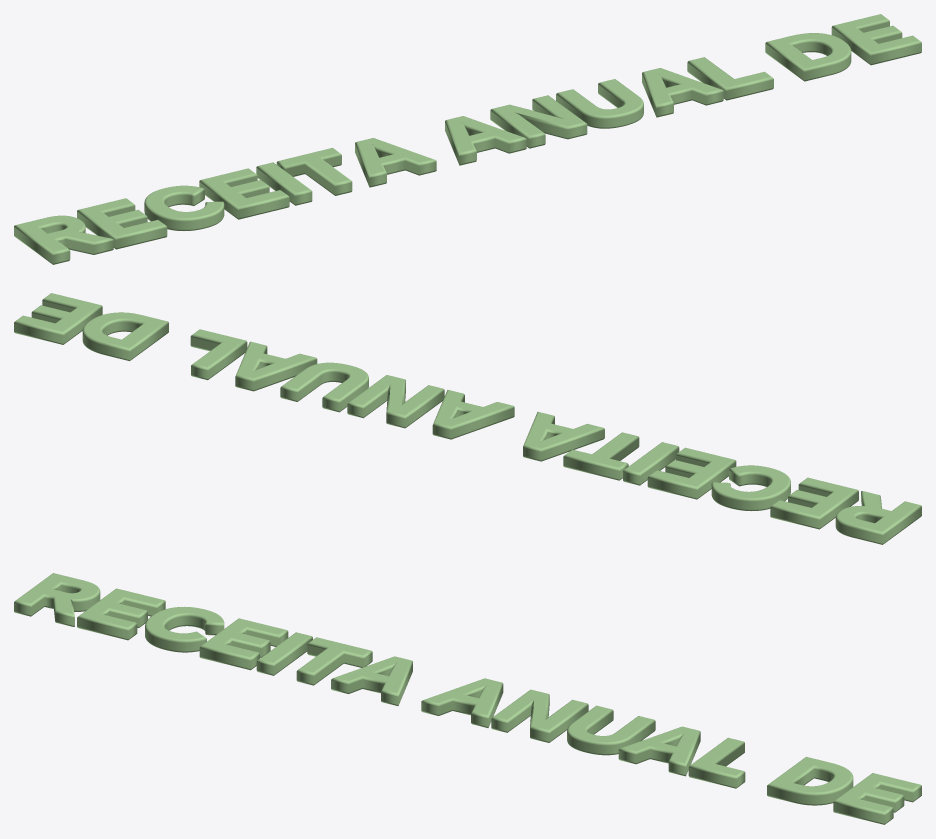
3 renders of one model, top to bottom at view 1: azimuth 30°, elevation 25°; view 2: azimuth 150°, elevation 25°; view 3: azimuth 330°, elevation 25°, orthographic.
Parts seen in each view (by area): view 1: Text 1; view 2: Text 1; view 3: Text 1.
Part boxes in pixels (x1,y1,x2,y2): Text 1: (14, 14, 921, 264); Text 1: (14, 293, 921, 544); Text 1: (14, 573, 921, 824).
Size of the model in its own units: 8.48 by 0.12 by 0.6746.
